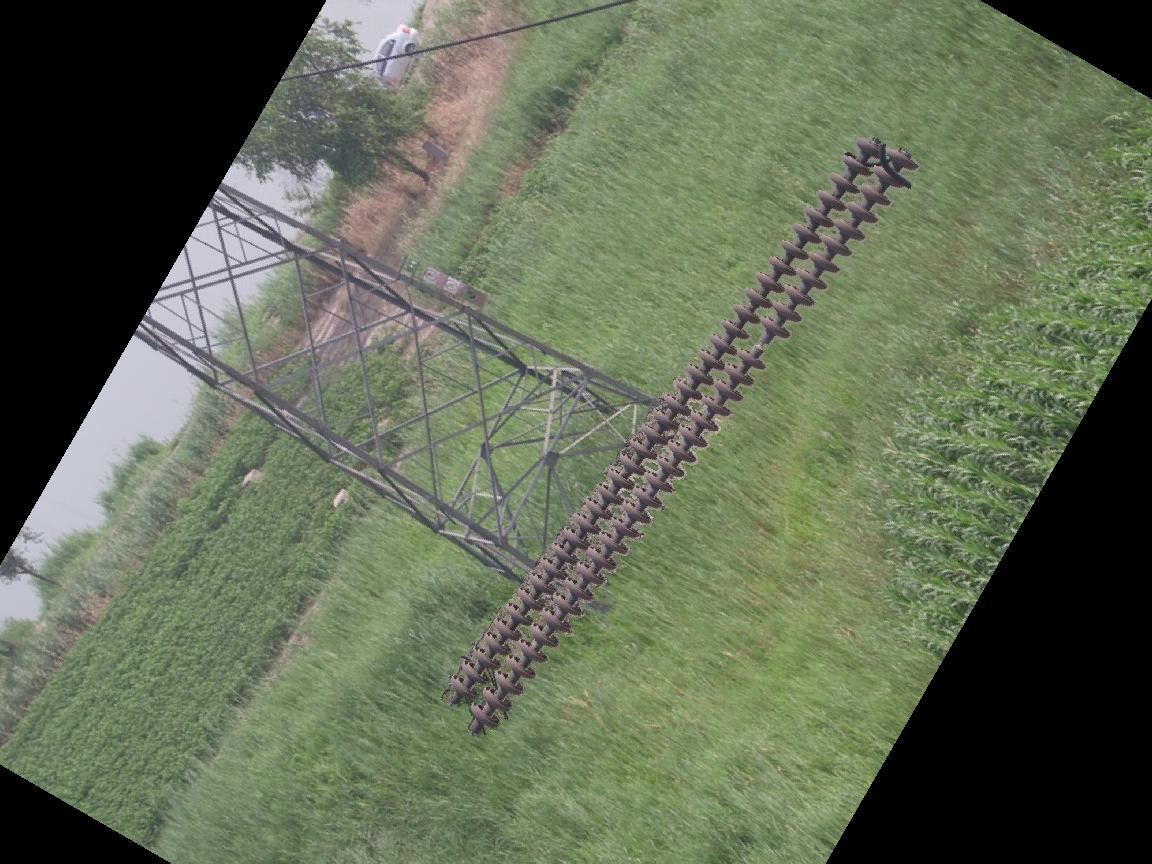insulator: (445, 132, 918, 735)
insulator_stringdrop: (734, 315, 794, 372)
